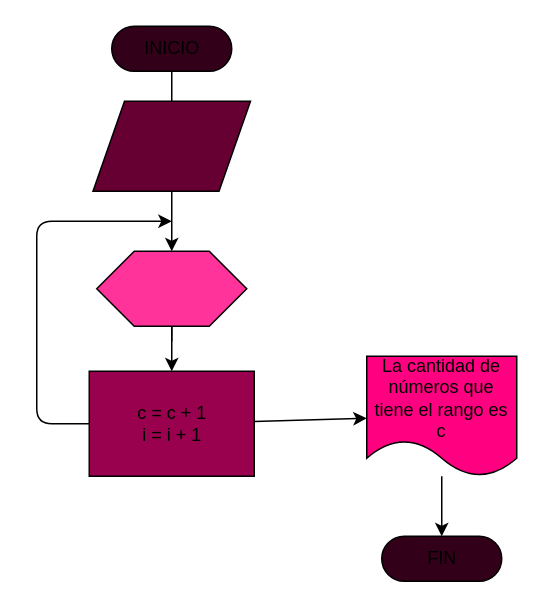
Image size: 543x608. Some labels were removed from this diagram. The shapes that lost their labels are listed below. From the top down, each one's centre as x and y in pixels, then its label:
At pixel 171 145: "x y c = 0 i = x + 1".
At pixel 171 288: "i < y".
